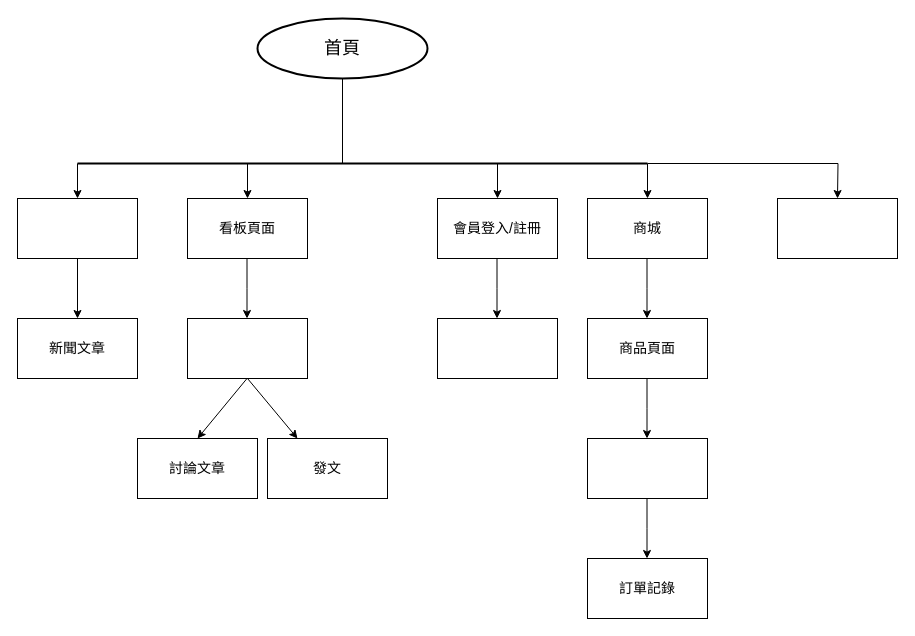
Image size: 915x636. Some labels were removed from this diagram. Here are the shapes that lost their labels. From the top down, the box of each, then its label:
(16, 198, 138, 258): 新聞頁面
(776, 198, 898, 258): 客服中心
(186, 318, 308, 378): 討論區
(436, 318, 558, 378): 個人頁面
(586, 438, 708, 498): 結帳畫面
